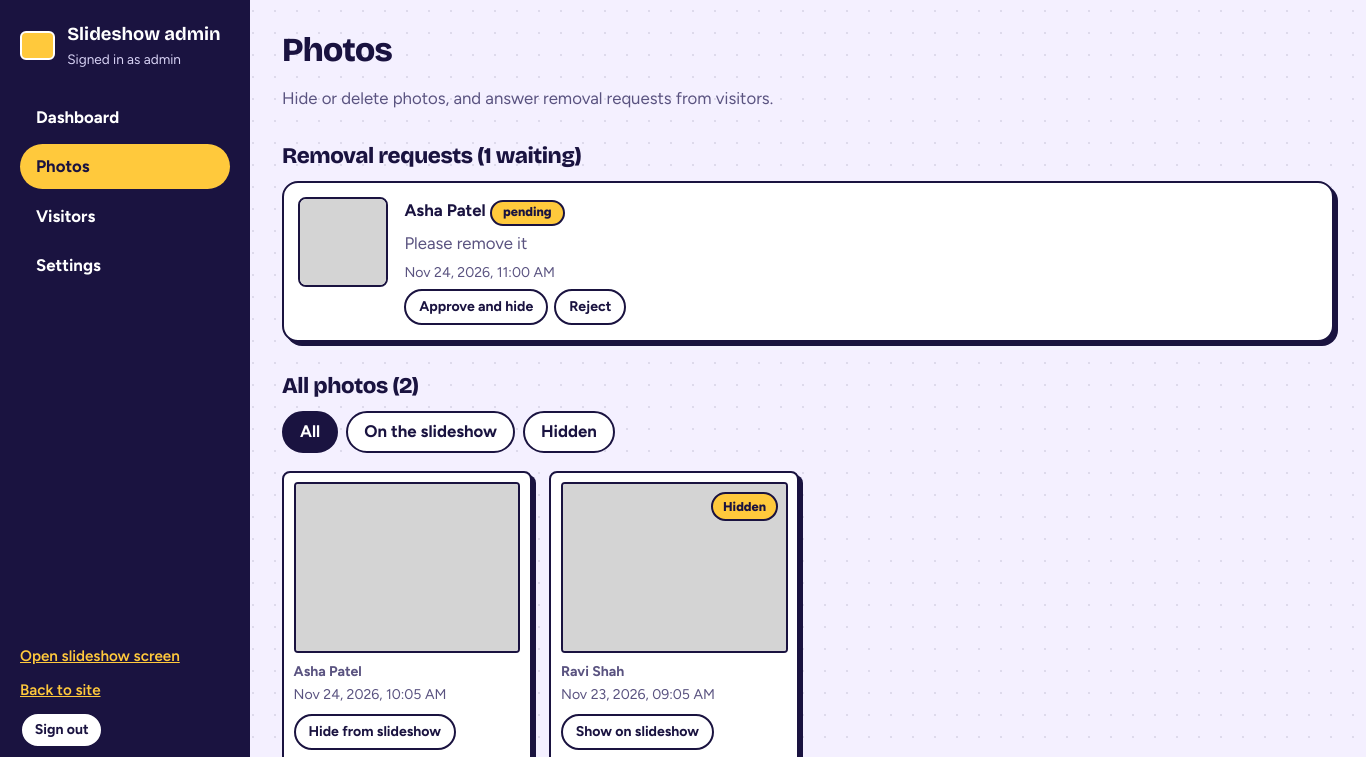
Test case: Admin photos and removal requests › approves a removal request
Click the button with aria-label "Approve removal request from Asha Patel".
click(476, 307)  # box [404,289,548,326]
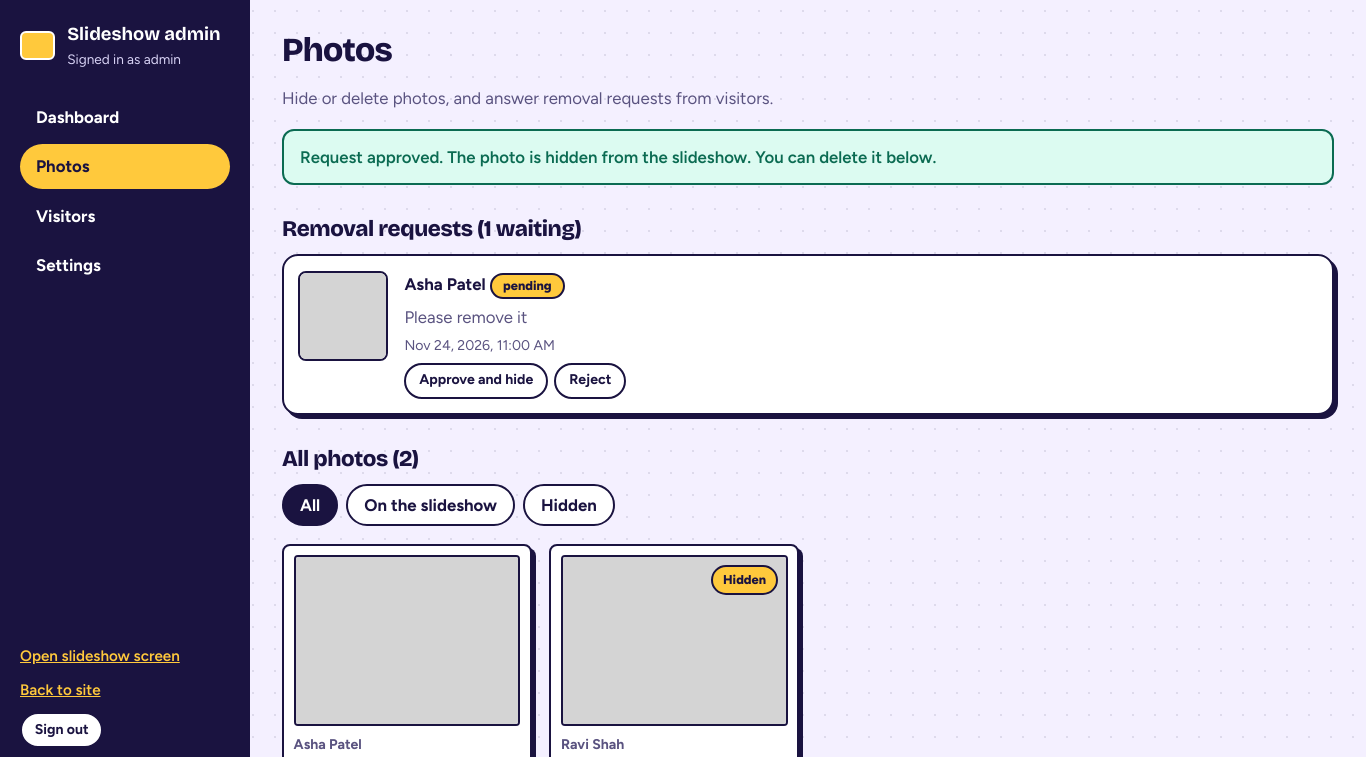
Expected: the text "Request approved" is shown, [300,146,936,166]
